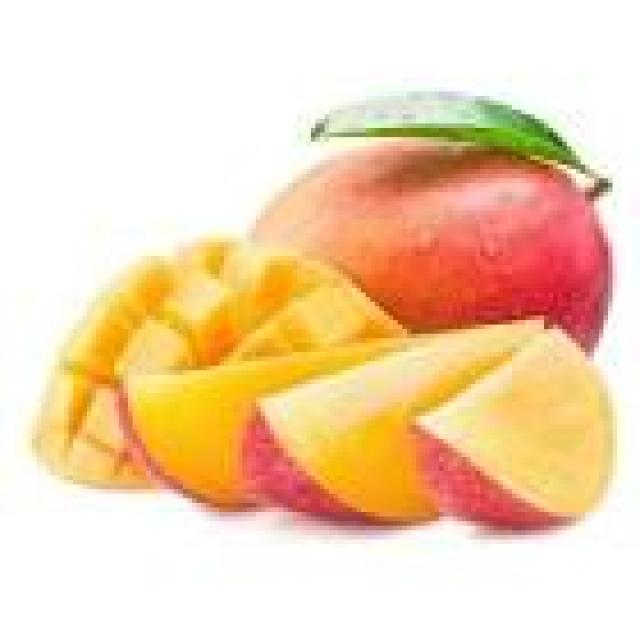mango: (39, 111, 612, 526), (41, 241, 406, 504)
